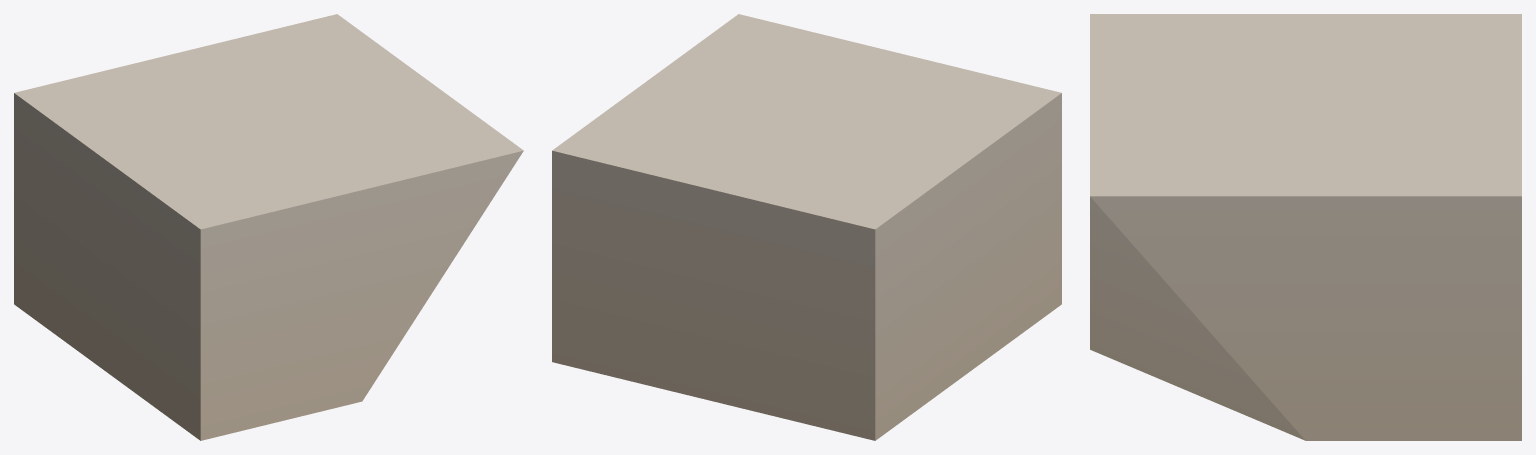
File: building-corner-bottom.glb
The picture shows the model from 3 angles, left to right: view 1: azimuth 30°, elevation 25°; view 2: azimuth 150°, elevation 25°; view 3: azimuth 270°, elevation 25°; orthographic projection. The views are drawn at different scales.
Visible parts, largest first — view 1: building-corner-bottom; view 2: building-corner-bottom; view 3: building-corner-bottom.
Boxes of the visible parts, <box> form: building-corner-bottom: <box>14,14,523,440</box>; building-corner-bottom: <box>552,14,1061,440</box>; building-corner-bottom: <box>1090,14,1521,440</box>.
Size of the model in its own units: 1 by 0.625 by 1.
